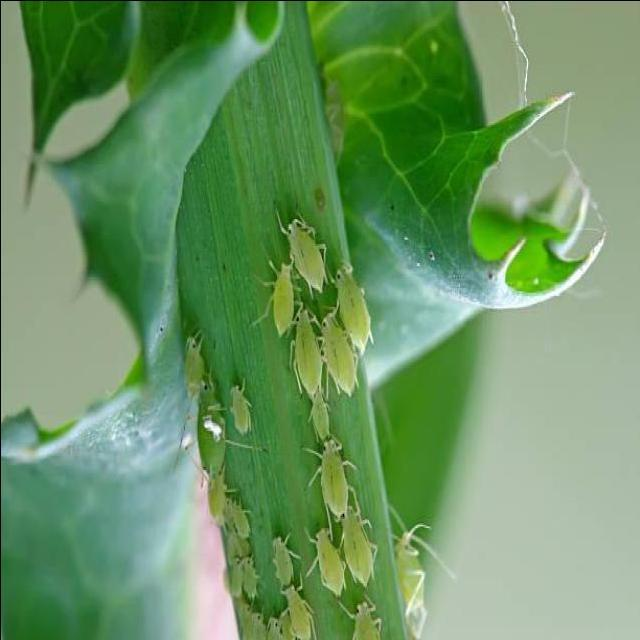aphid: (271, 202, 334, 300), (314, 308, 360, 404), (190, 368, 230, 478), (332, 503, 380, 591), (332, 253, 372, 354), (303, 518, 350, 602), (311, 437, 355, 518), (288, 296, 320, 405), (258, 260, 299, 338), (180, 326, 214, 407), (228, 364, 255, 448), (266, 530, 301, 587), (282, 583, 316, 640), (305, 386, 333, 444), (237, 550, 263, 604)
